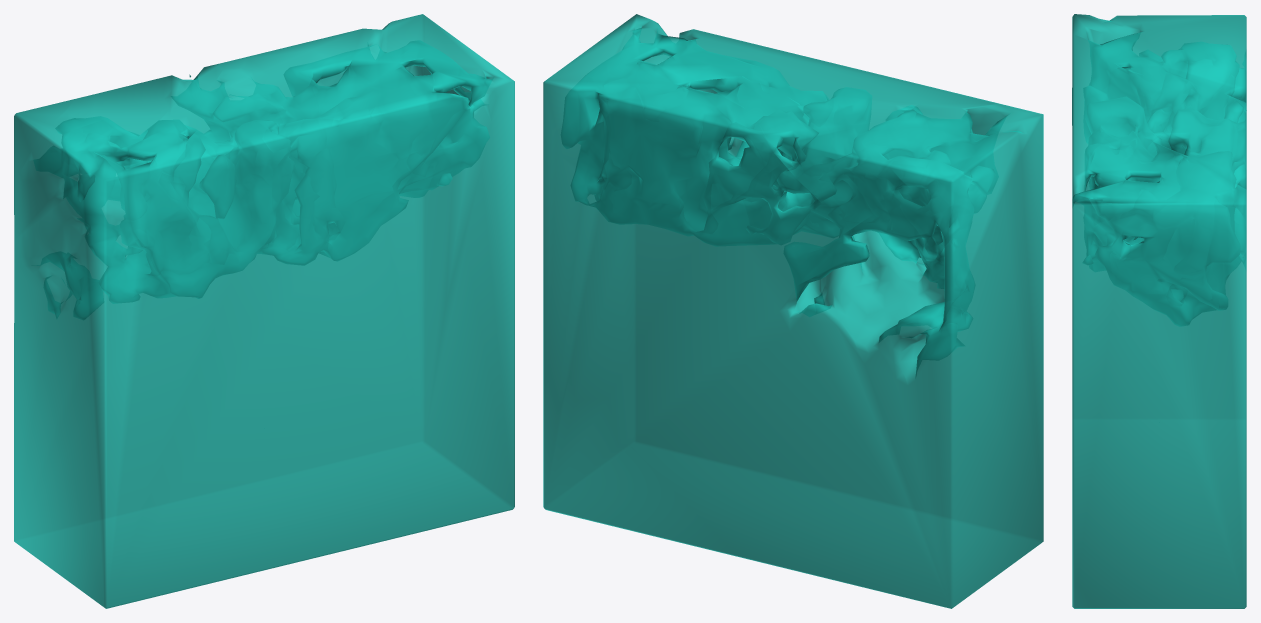
3 renders of one model, left to right at view 1: azimuth 30°, elevation 25°; view 2: azimuth 150°, elevation 25°; view 3: azimuth 270°, elevation 25°, orthographic. The views are drawn at different scales.
Parts seen in each view (by area): view 1: Liquid_Domain; view 2: Liquid_Domain; view 3: Liquid_Domain.
Boxes of the visible parts, left/top/right/bottom form: Liquid_Domain: left=14, top=14, right=514, bottom=608; Liquid_Domain: left=543, top=14, right=1043, bottom=608; Liquid_Domain: left=1072, top=14, right=1246, bottom=608.
Size of the model in its own units: 884 by 884 by 344.
